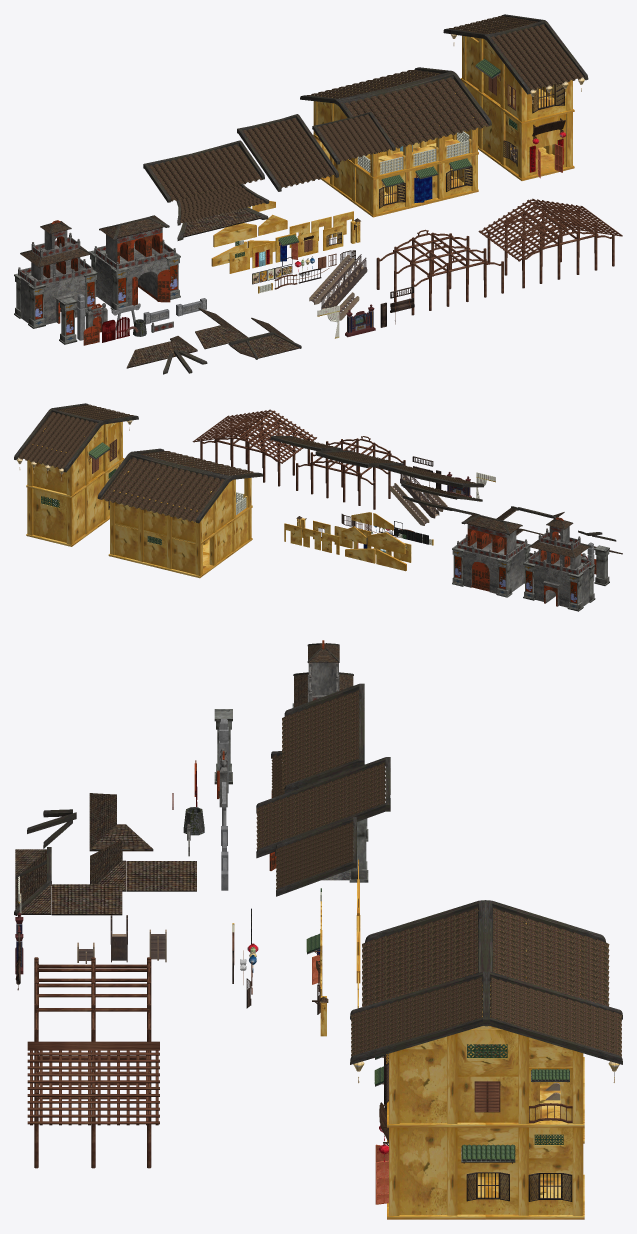
Rendered from HoiAn.fbx.
3 renders of one model, top to bottom at view 1: azimuth 30°, elevation 25°; view 2: azimuth 150°, elevation 25°; view 3: azimuth 270°, elevation 25°, orthographic. The views are drawn at different scales.
Visible parts, largest first — view 1: tuong.022, HoaGio.006, Cube.072, Cube.095, Cube.055, MaiNhaCao, MaiNhaNgang, Cube.022, Circle.003, MaiNhaNgang.163, MaiNhaNgang.016, CauThang1 (+7 smaller); view 2: tuong.022, HoaGio.006, Cube.072, Cube.095, Cube.055, Cube.022, MaiNhaNgang, MaiNhaCao, TuongMai1, Circle.003, CauThang1, TruCot (+5 smaller); view 3: HoaGio.006, tuong.022, Cube.055, MaiNhaCao, MaiNhaNgang, Circle.003, Cube.022, Cube.095, Cube.107, Cube.027, Cube.104, Cube.072 (+1 smaller).
Part boxes in pixels (left/top/right/bottom): tuong.022: left=300, top=67, right=491, bottom=217; HoaGio.006: left=443, top=14, right=588, bottom=180; Cube.072: left=89, top=215, right=180, bottom=310; Cube.095: left=14, top=220, right=97, bottom=328; Cube.055: left=478, top=198, right=622, bottom=288; MaiNhaCao: left=237, top=114, right=338, bottom=191; MaiNhaNgang: left=143, top=140, right=264, bottom=202; Cube.022: left=376, top=229, right=503, bottom=315; Circle.003: left=312, top=111, right=395, bottom=164; MaiNhaNgang.163: left=176, top=183, right=269, bottom=225; MaiNhaNgang.016: left=177, top=207, right=268, bottom=240; CauThang1: left=320, top=254, right=367, bottom=309; tuong.022: left=97, top=448, right=263, bottom=578; HoaGio.006: left=14, top=403, right=138, bottom=546; Cube.072: left=452, top=513, right=530, bottom=597; Cube.095: left=523, top=517, right=595, bottom=611; Cube.055: left=192, top=409, right=316, bottom=486; Cube.022: left=296, top=436, right=405, bottom=509; MaiNhaNgang: left=379, top=463, right=483, bottom=488; MaiNhaCao: left=315, top=450, right=403, bottom=467; TuongMai1: left=367, top=532, right=405, bottom=554; Circle.003: left=270, top=436, right=342, bottom=450; CauThang1: left=400, top=474, right=439, bottom=518; TruCot: left=594, top=545, right=609, bottom=585; HoaGio.006: left=350, top=971, right=622, bottom=1219; tuong.022: left=362, top=900, right=609, bottom=1143; Cube.055: left=27, top=1041, right=159, bottom=1168; MaiNhaCao: left=256, top=757, right=390, bottom=858; MaiNhaNgang: left=282, top=683, right=364, bottom=793; Circle.003: left=276, top=817, right=357, bottom=896; Cube.022: left=34, top=957, right=151, bottom=1041; Cube.095: left=292, top=640, right=353, bottom=707; Cube.107: left=51, top=884, right=122, bottom=915; Cube.027: left=126, top=861, right=196, bottom=891; Cube.104: left=89, top=793, right=116, bottom=848; Cube.072: left=269, top=775, right=368, bottom=882.
Bounding box in the file's own units: 8623 × 1822 × 4855.
26 materials, 26 textured.
